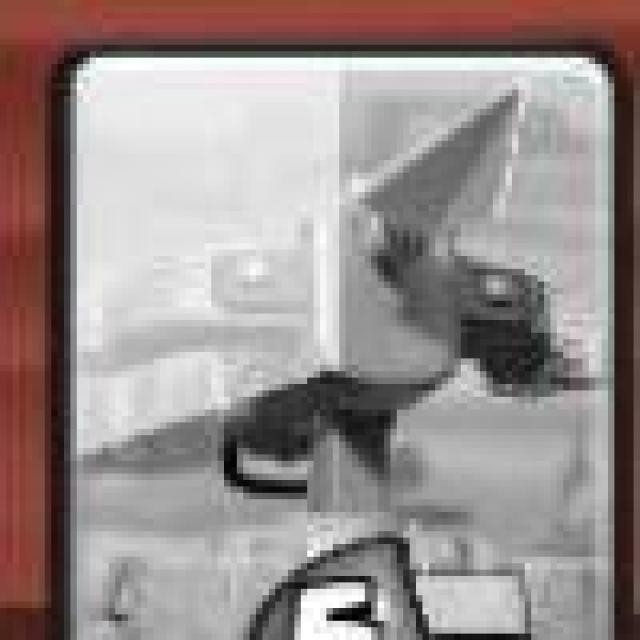X_Bow: (57, 46, 628, 640)
